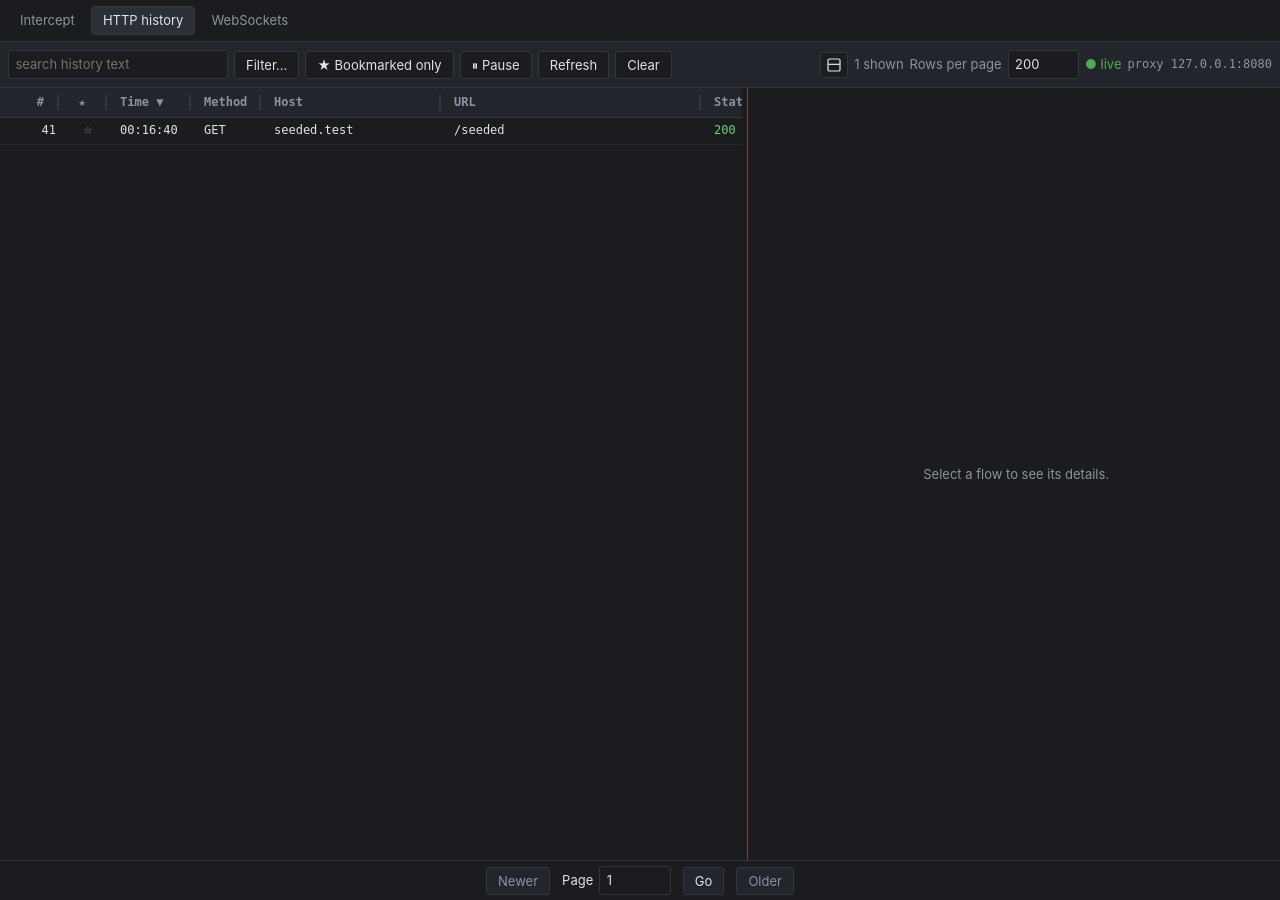
Test: ProxyTab › removes the bookmark highlight when the bookmark is cleared
The width and height of the screenshot is (1280, 900).
Click the button named "Bookmark" at (88, 130), box 84,122 -> 92,137
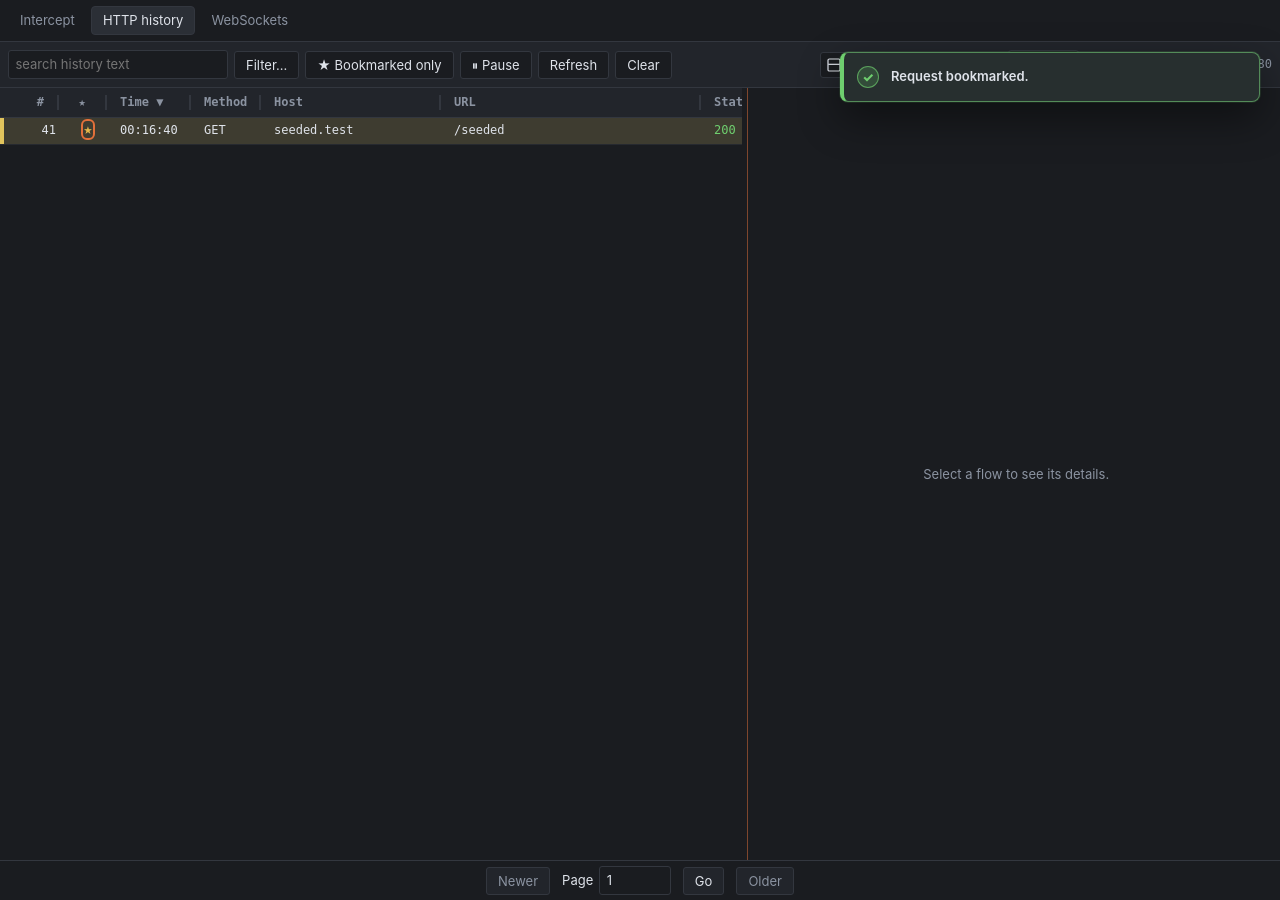
Click the button named "Remove bookmark" at (88, 130), box 84,122 -> 92,137
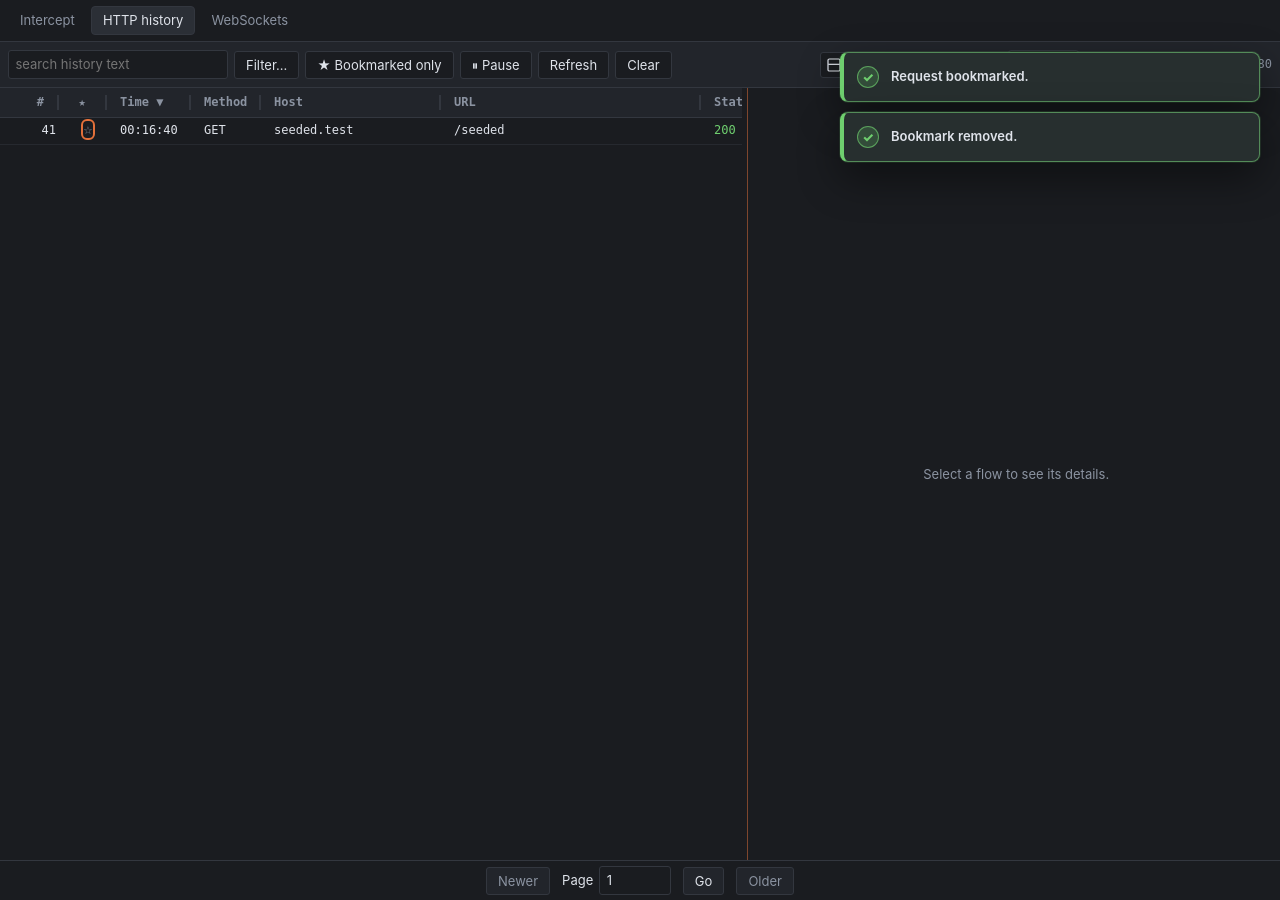
Now the text "Bookmark removed." is shown, box 891,128 -> 1017,144
